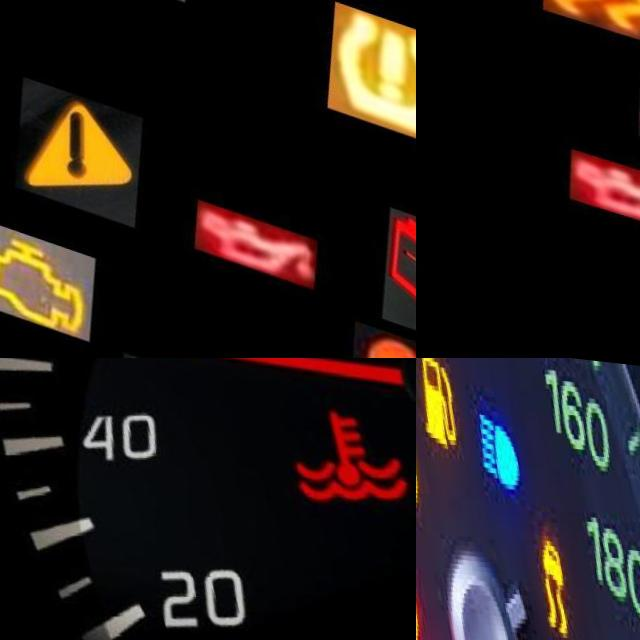Central Warning lamp: (0, 70, 148, 224)
Engine cooling system: (228, 359, 416, 530)
